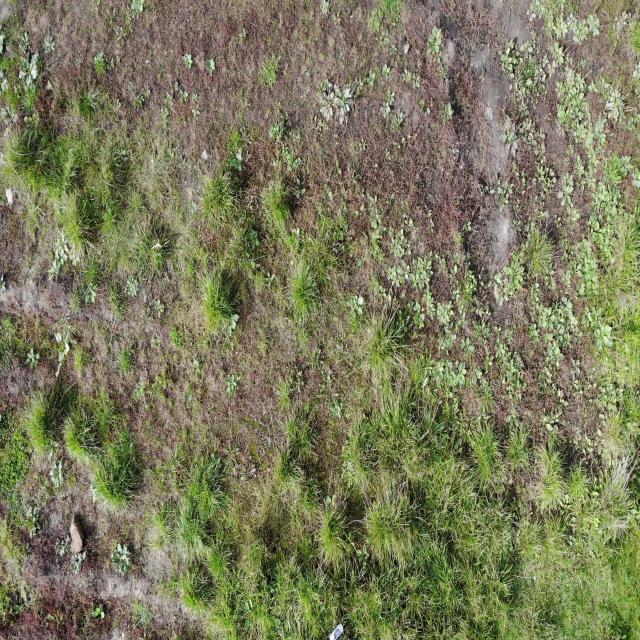rubbish: (327, 621, 344, 640)
